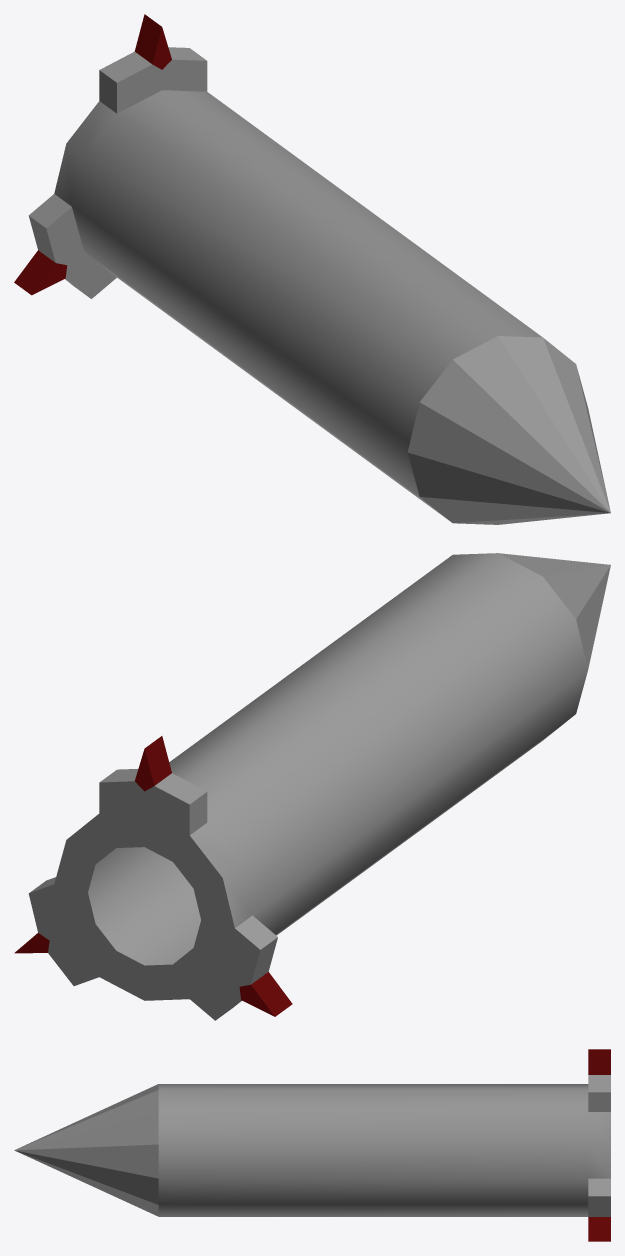
The model's file is Missle.FBX.
3 renders of one model, top to bottom at view 1: azimuth 30°, elevation 25°; view 2: azimuth 150°, elevation 25°; view 3: azimuth 270°, elevation 25°, orthographic. The views are drawn at different scales.
Visible parts, largest first — view 1: Missle; view 2: Missle; view 3: Missle.
Part boxes in pixels (x1,y1,x2,y2): Missle: (14,14,610,524); Missle: (14,553,610,1020); Missle: (14,1049,610,1241).
Bounding box in the file's own units: 31.61 × 29.51 × 97.8.
